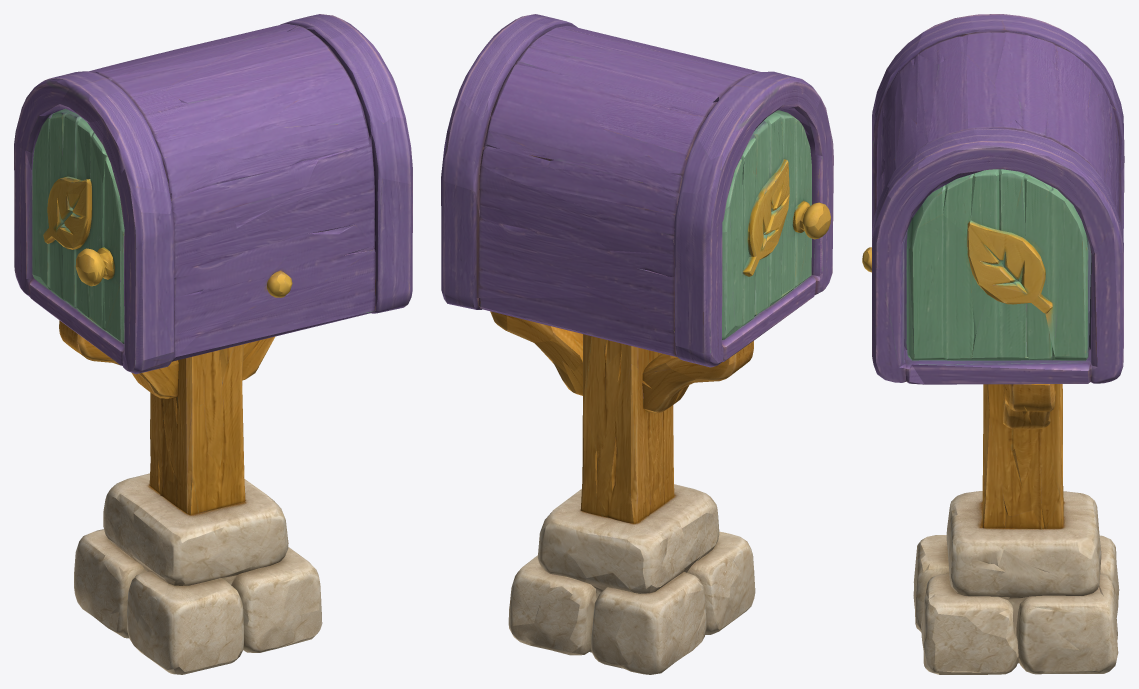
The picture shows the model from 3 angles, left to right: view 1: azimuth 30°, elevation 25°; view 2: azimuth 150°, elevation 25°; view 3: azimuth 270°, elevation 25°; orthographic projection. The views are drawn at different scales.
Parts seen in each view (by area): view 1: island-mailbox-v1-1; view 2: island-mailbox-v1-1; view 3: island-mailbox-v1-1.
Part boxes in pixels (x1=…): island-mailbox-v1-1: x1=14, y1=14, x2=412, y2=674; island-mailbox-v1-1: x1=441, y1=14, x2=833, y2=674; island-mailbox-v1-1: x1=862, y1=14, x2=1124, y2=674.
Bounding box in the file's own units: 0.6683 × 1.2 × 0.5053.
1 material, 1 textured.
